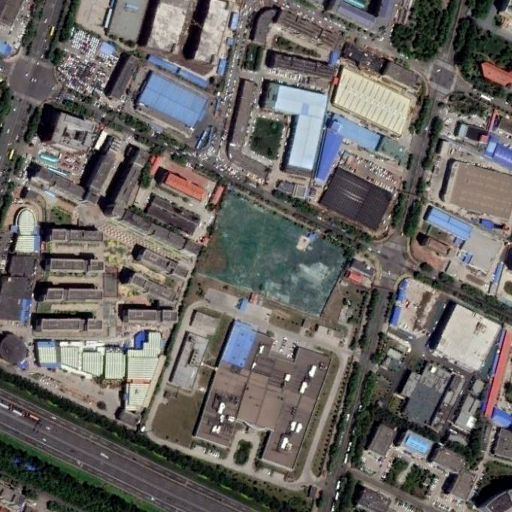cw: (195, 186, 351, 315)
